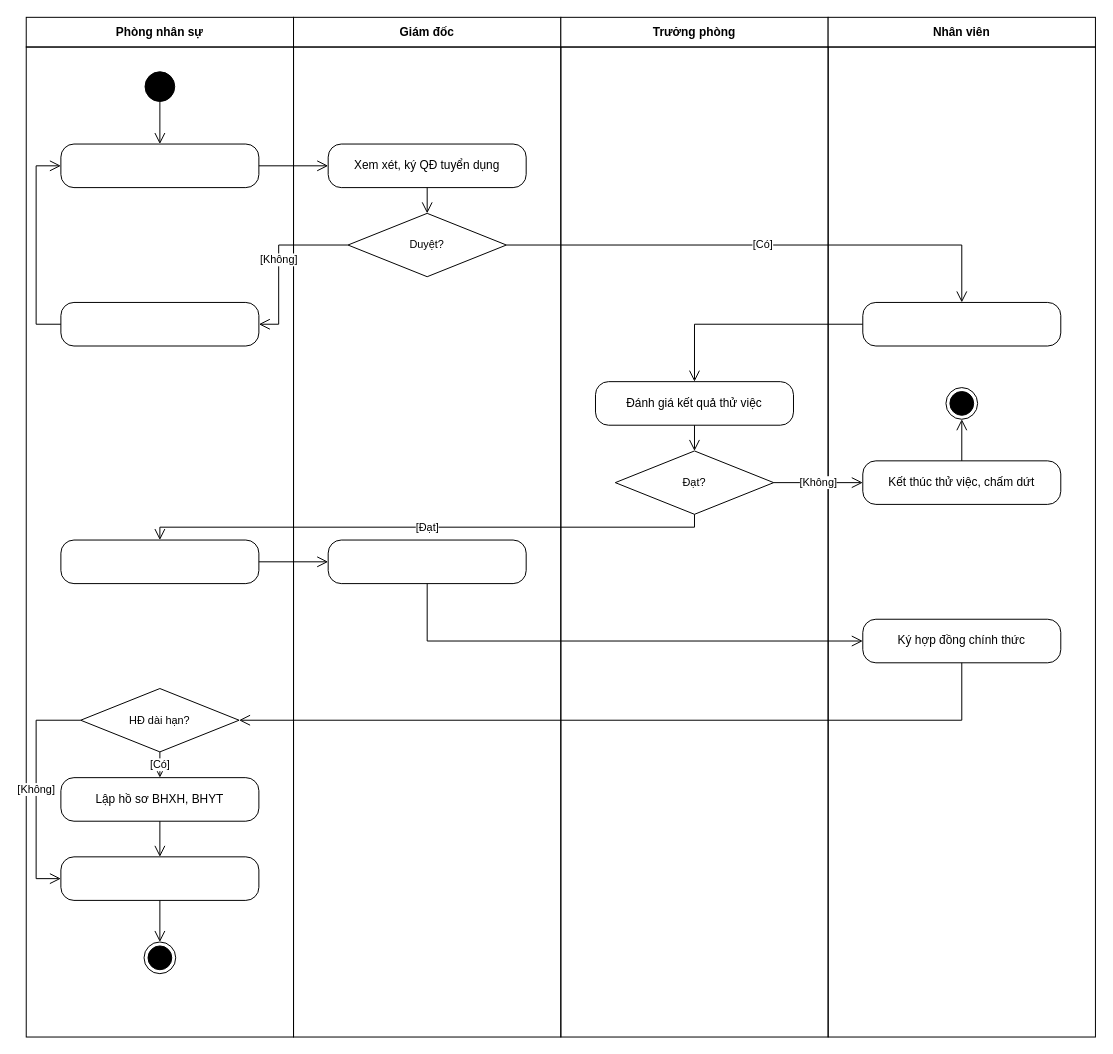
The diagram is 1113 pixels wide and 1054 high, and some of its shapes have lost their labels. Here are the shapes that lost their labels. From the top down, the box of each, then its label:
(60, 143, 259, 188): Tiếp nhận hồ sơ, lập QĐ tuyển dụng (thử việc, lương TV)
(60, 301, 259, 346): Chỉnh sửa QĐ
(862, 301, 1061, 346): Nhận QĐ, thử việc tại phòng ban
(60, 539, 259, 584): Soạn hợp đồng, QĐ lương, QĐ chức vụ (nếu có)
(327, 539, 526, 584): Ký hợp đồng và các quyết định
(60, 856, 259, 900): Cập nhật trạng thái NV = Chính thức
